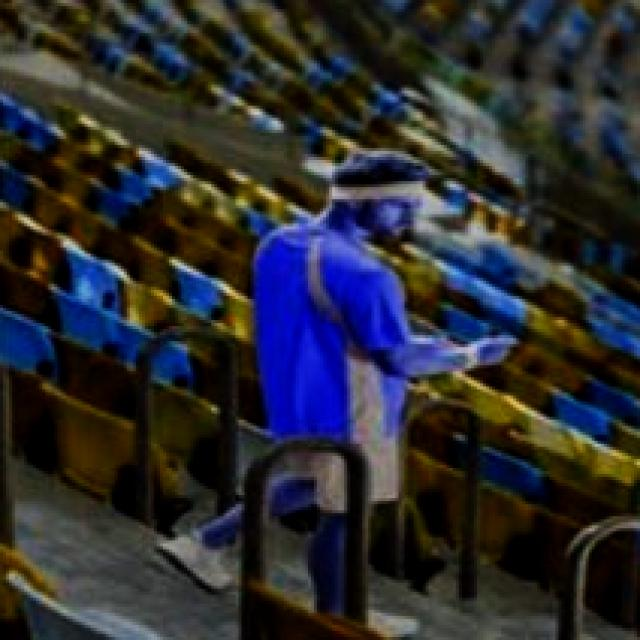downstair: (131, 442, 381, 640)
